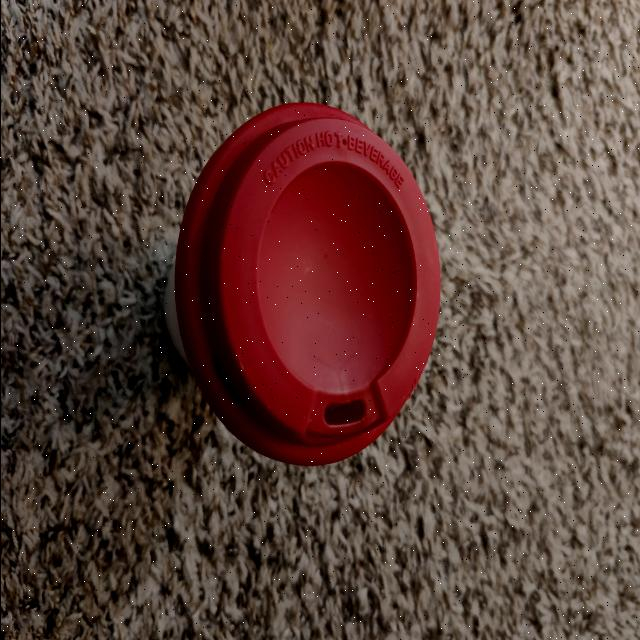mug: (169, 101, 441, 469)
